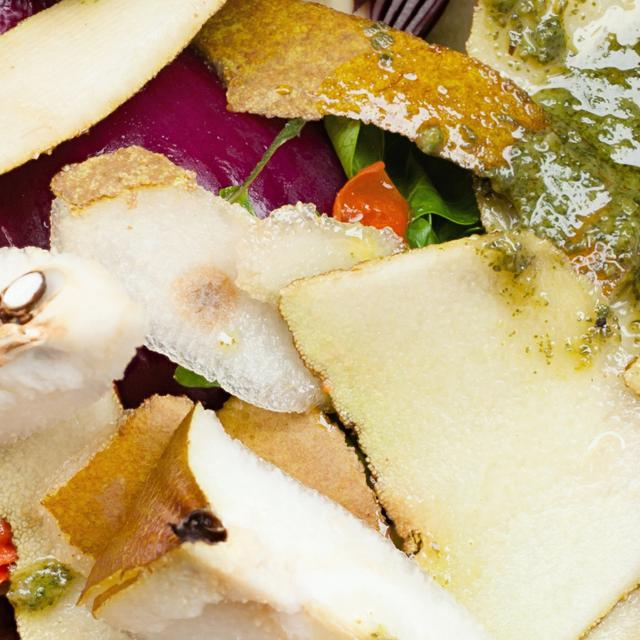food_waste: (262, 197, 640, 640), (62, 462, 623, 640), (184, 0, 587, 213), (0, 226, 233, 513)
